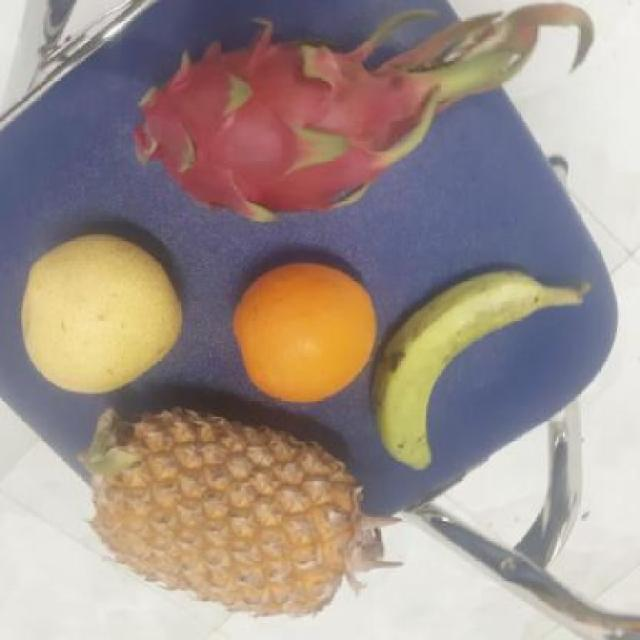banana: (362, 271, 553, 467)
dragon fruit: (110, 32, 428, 223)
pear: (12, 231, 183, 392), (226, 263, 382, 405)
pineapple: (78, 402, 358, 613)
